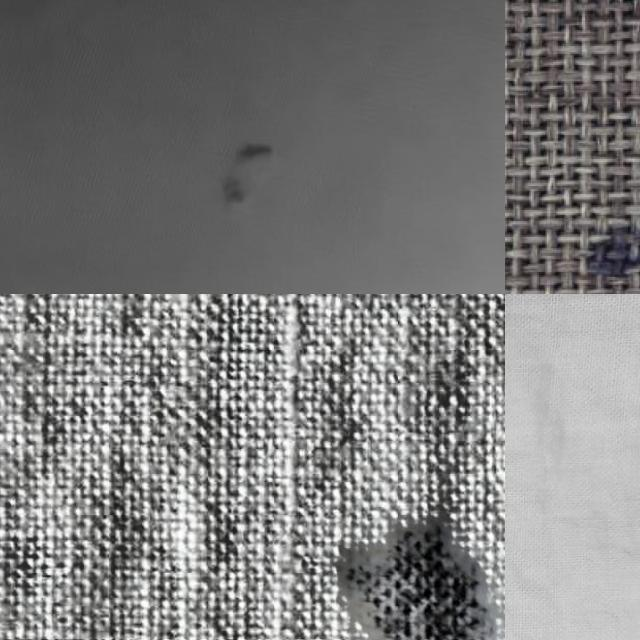Thread_other: (162, 56, 336, 282), (306, 485, 505, 640), (566, 198, 640, 294)
